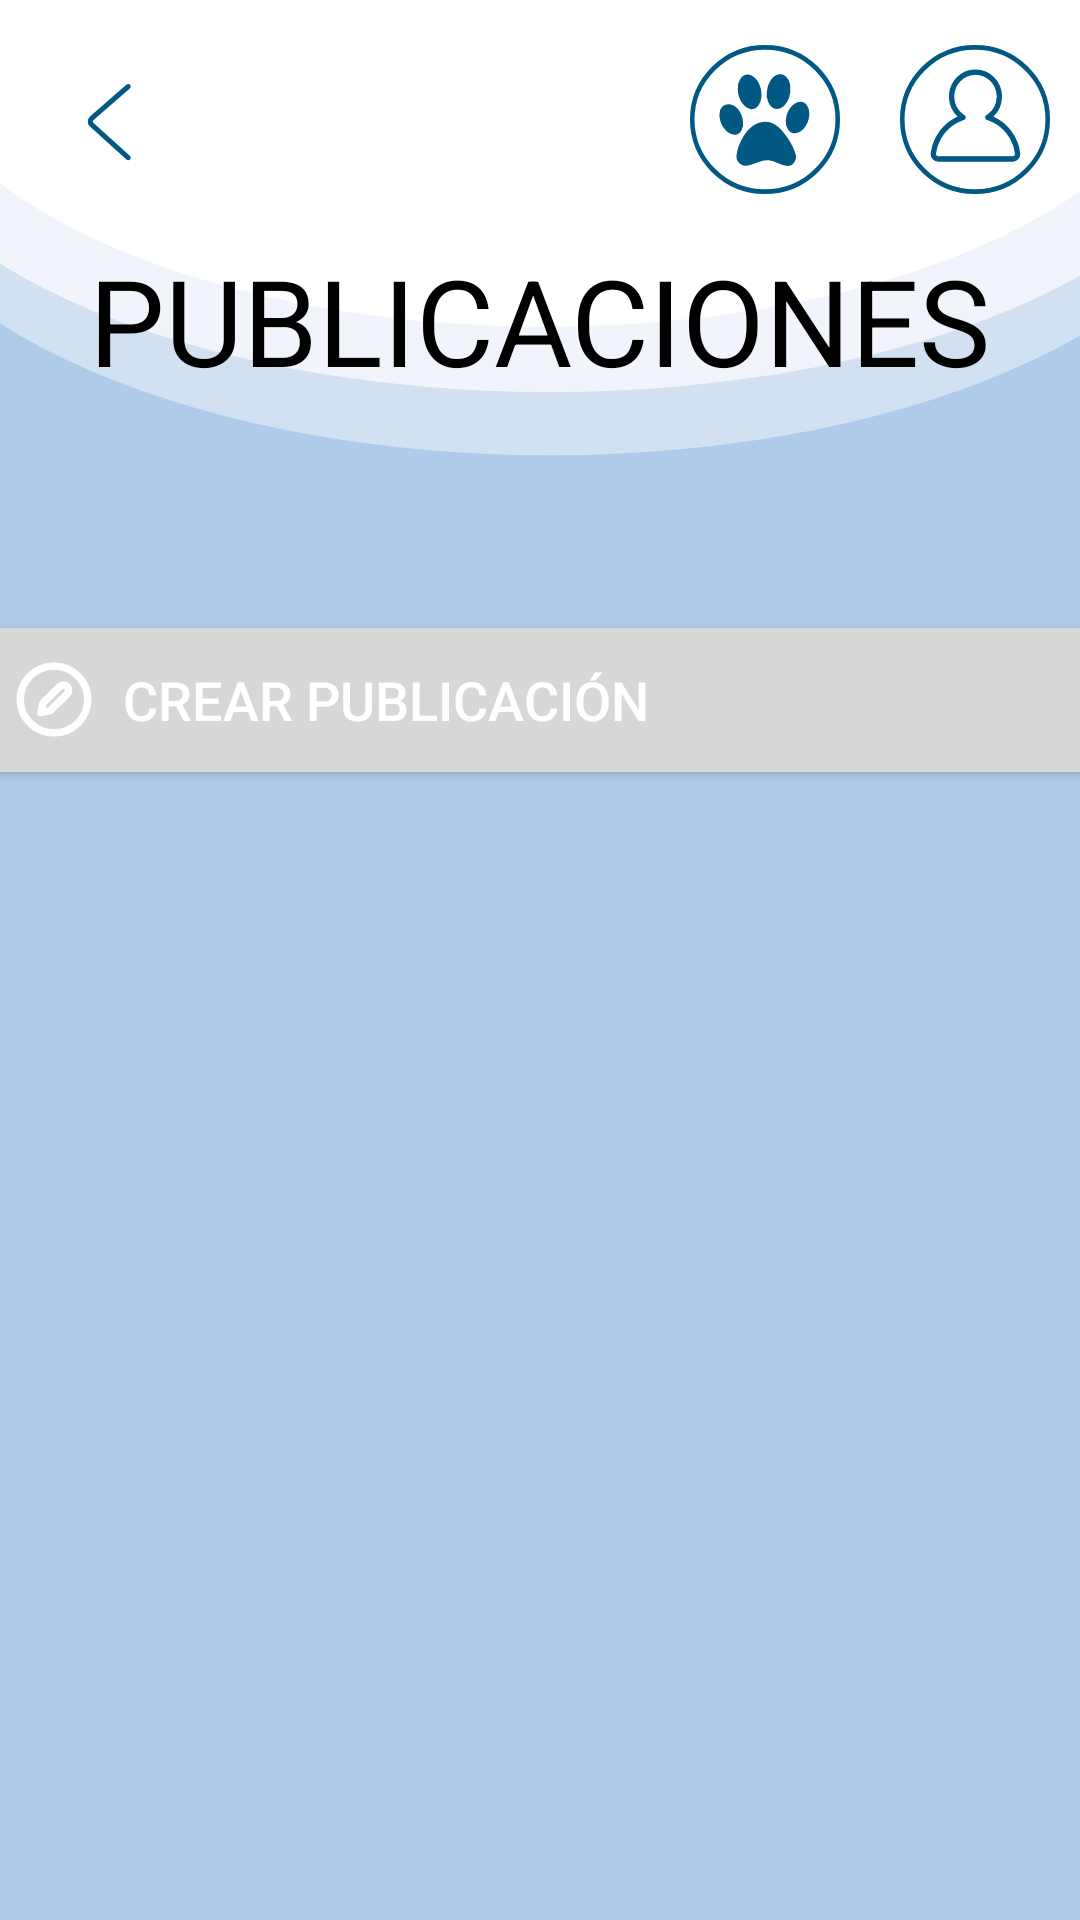

Icons on this 1080×1920 Android screen, each with its box as (x1, y1, x2, y2):
back arrow: (87, 84, 131, 161)
huella: (690, 45, 840, 194)
